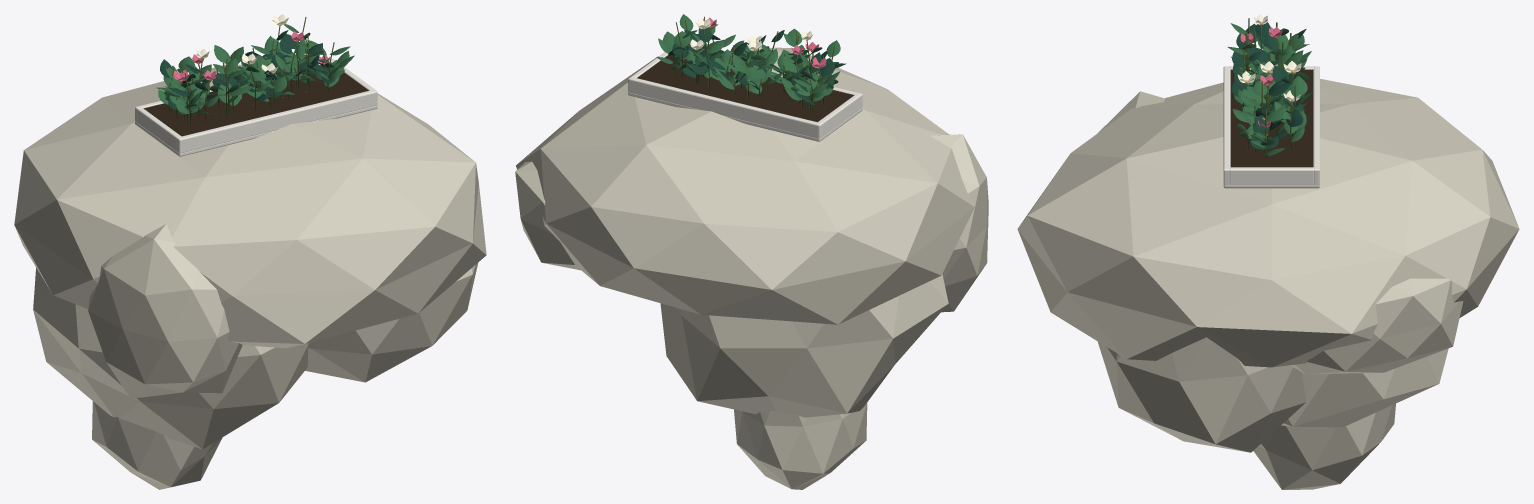
Rendered from garden-kit.glb.
The picture shows the model from 3 angles, left to right: view 1: azimuth 30°, elevation 25°; view 2: azimuth 150°, elevation 25°; view 3: azimuth 270°, elevation 25°; orthographic projection. The views are drawn at different scales.
Parts seen in each view (by area): view 1: island_root_museum_limestone, garden_foliage_garden_palette, garden_perimeter_garden_palette, garden_foliage_museum_ivory; view 2: island_root_museum_limestone, garden_foliage_garden_palette, garden_perimeter_garden_palette, garden_foliage_museum_ivory; view 3: island_root_museum_limestone, garden_foliage_garden_palette, garden_perimeter_garden_palette, garden_foliage_museum_ivory.
Boxes of the visible parts, left/top/right/bottom form: island_root_museum_limestone: left=14, top=64, right=486, bottom=489; garden_foliage_garden_palette: left=143, top=34, right=368, bottom=136; garden_perimeter_garden_palette: left=164, top=14, right=354, bottom=123; garden_foliage_museum_ivory: left=135, top=59, right=377, bottom=156; island_root_museum_limestone: left=515, top=47, right=988, bottom=489; garden_foliage_garden_palette: left=637, top=28, right=853, bottom=122; garden_perimeter_garden_palette: left=656, top=14, right=840, bottom=107; garden_foliage_museum_ivory: left=628, top=52, right=862, bottom=141; island_root_museum_limestone: left=1017, top=79, right=1519, bottom=489; garden_foliage_garden_palette: left=1227, top=18, right=1312, bottom=167; garden_perimeter_garden_palette: left=1231, top=14, right=1313, bottom=158; garden_foliage_museum_ivory: left=1223, top=66, right=1319, bottom=188.
Size of the model in its own units: 2.85 by 3.04 by 2.86.
